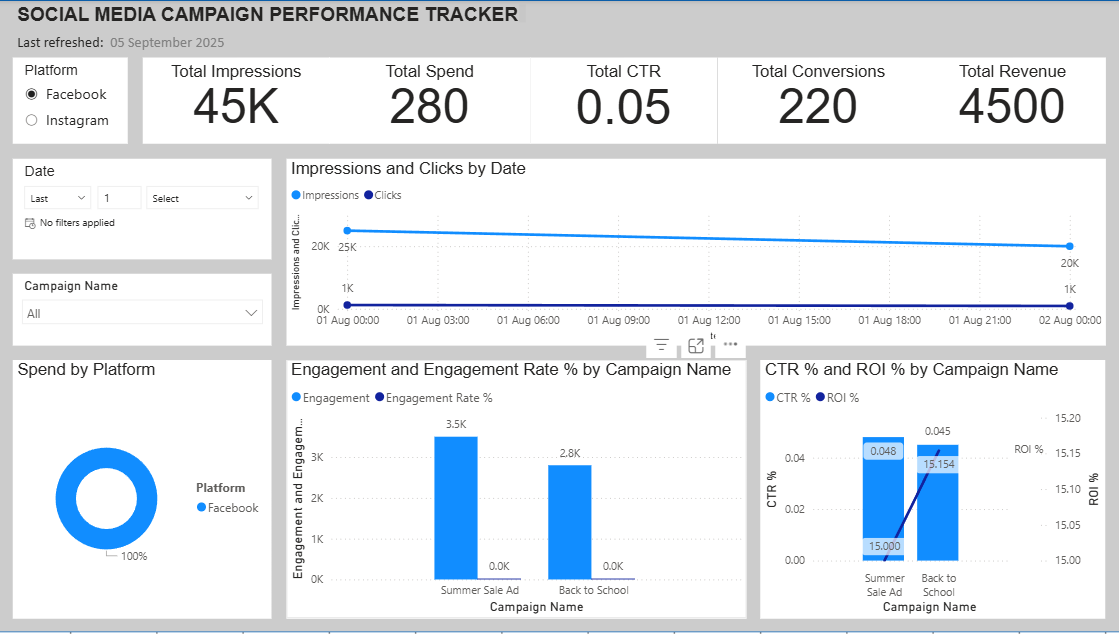

The page's visual inventory and layout, read from the dashboard file:
{"tool":"powerbi","page":{"name":"Campaign Dashboard","canvas":[1280,720],"ordinal":0},"visuals":[{"type":"card","fields":{"Values":["Date.Revenue"]},"box":[992,512,240,144],"z":0},{"type":"shape","box":[0,0,1264,704],"z":1000},{"type":"card","title":"Total Impressions","fields":{"Values":["Date.Impressions"]},"box":[176,64,208,96],"z":2000},{"type":"textbox","box":[32,0,576,32],"z":3000},{"type":"card","title":"Total Spend","fields":{"Values":["Date.Spend"]},"box":[384,64,224,96],"z":4000},{"type":"card","title":"Total CTR","fields":{"Values":["Date.CTR %"]},"box":[608,64,208,96],"z":5000},{"type":"card","title":"Total Conversions","fields":{"Values":["Date.Conversions"]},"box":[816,64,224,96],"z":7000},{"type":"card","title":"Total Revenue","fields":{"Values":["Date.Revenue"]},"box":[1040,64,208,96],"z":8000},{"type":"lineChart","fields":{"Category":["Date.Date"],"Y":["Date.Impressions","Date.Clicks"]},"box":[336,176,912,208],"z":9000},{"type":"lineClusteredColumnComboChart","fields":{"Category":["social_media_campaign_data.Campaign Name"],"Y":["Date.CTR %"],"Y2":["Date.ROI %"]},"box":[864,400,384,288],"z":10000},{"type":"donutChart","fields":{"Category":["social_media_campaign_data.Platform"],"Y":["Date.Spend"]},"box":[32,400,288,288],"z":11000},{"type":"clusteredColumnChart","fields":{"Category":["social_media_campaign_data.Campaign Name"],"Y":["Date.Engagement","Date.Engagement Rate %"]},"box":[336,400,512,288],"z":12000},{"type":"slicer","fields":{"Values":["Date.Date"]},"box":[32,176,288,112],"z":12001},{"type":"slicer","fields":{"Values":["social_media_campaign_data.Platform"]},"box":[32,64,128,96],"z":12002},{"type":"slicer","fields":{"Values":["social_media_campaign_data.Campaign Name"]},"box":[32,304,288,80],"z":12003},{"type":"textbox","box":[32,32,304,32],"z":12004}]}

Visuals, with their boxes in screenshot pixels (x1, y1, x2, y2), scaled from the page's 1280x720 canvas onto the 1119x634 screenshot:
card - Date.Revenue: BBox(867, 451, 1077, 578)
shape: BBox(0, 0, 1105, 620)
"Total Impressions" card: BBox(154, 56, 336, 141)
textbox: BBox(28, 0, 532, 28)
"Total Spend" card: BBox(336, 56, 532, 141)
"Total CTR" card: BBox(532, 56, 713, 141)
"Total Conversions" card: BBox(713, 56, 909, 141)
"Total Revenue" card: BBox(909, 56, 1091, 141)
lineChart - Date.Date x Date.Impressions: BBox(294, 155, 1091, 338)
lineClusteredColumnComboChart - social_media_campaign_data.Campaign Name x Date.CTR %: BBox(755, 352, 1091, 606)
donutChart - social_media_campaign_data.Platform x Date.Spend: BBox(28, 352, 280, 606)
clusteredColumnChart - social_media_campaign_data.Campaign Name x Date.Engagement: BBox(294, 352, 741, 606)
slicer - Date.Date: BBox(28, 155, 280, 254)
slicer - social_media_campaign_data.Platform: BBox(28, 56, 140, 141)
slicer - social_media_campaign_data.Campaign Name: BBox(28, 268, 280, 338)
textbox: BBox(28, 28, 294, 56)
